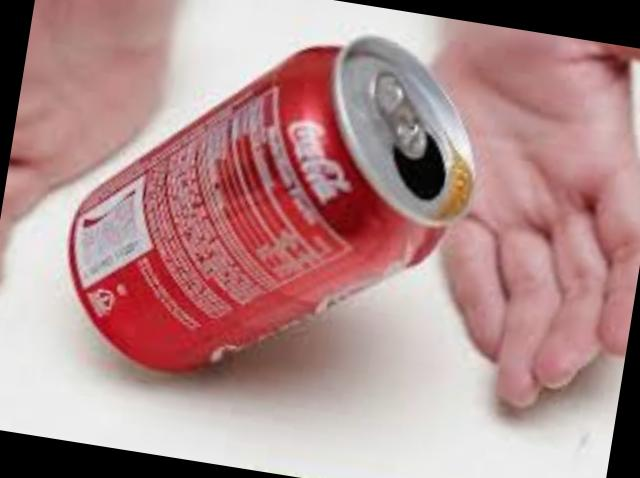metal: (65, 31, 471, 365)
